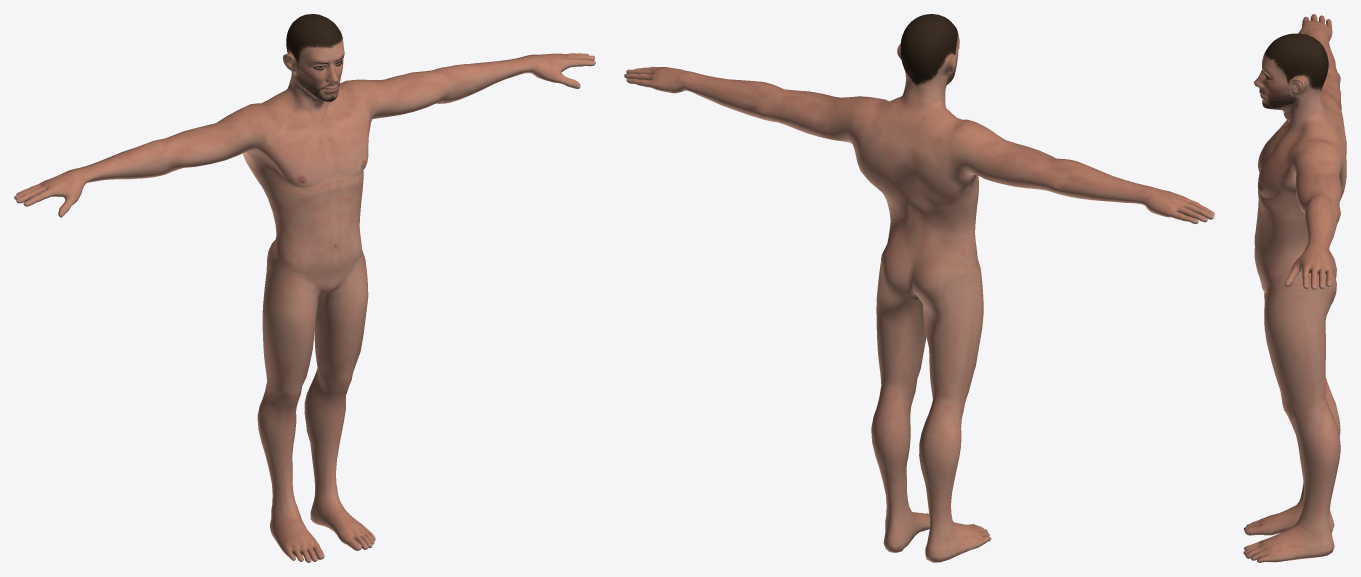
The model's file is europeoid.obj.
3 renders of one model, left to right at view 1: azimuth 30°, elevation 25°; view 2: azimuth 150°, elevation 25°; view 3: azimuth 270°, elevation 25°, orthographic. The views are drawn at different scales.
Parts seen in each view (by area): view 1: Body; view 2: Body; view 3: Body.
Part boxes in pixels (box(x1,y1,x2,y2)): Body: box(14, 14, 595, 562); Body: box(624, 14, 1214, 562); Body: box(1243, 14, 1346, 562).
Size of the model in its own units: 209 by 180 by 33.14.
